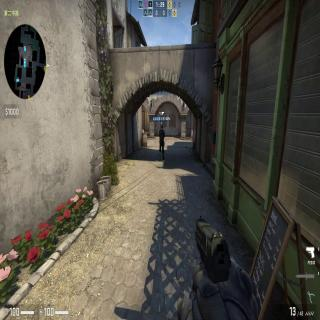CT-Body: (159, 125, 165, 160)
